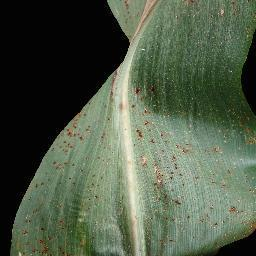Corn_Common_Rust: (14, 106, 256, 256), (81, 2, 256, 43), (80, 58, 174, 114)
